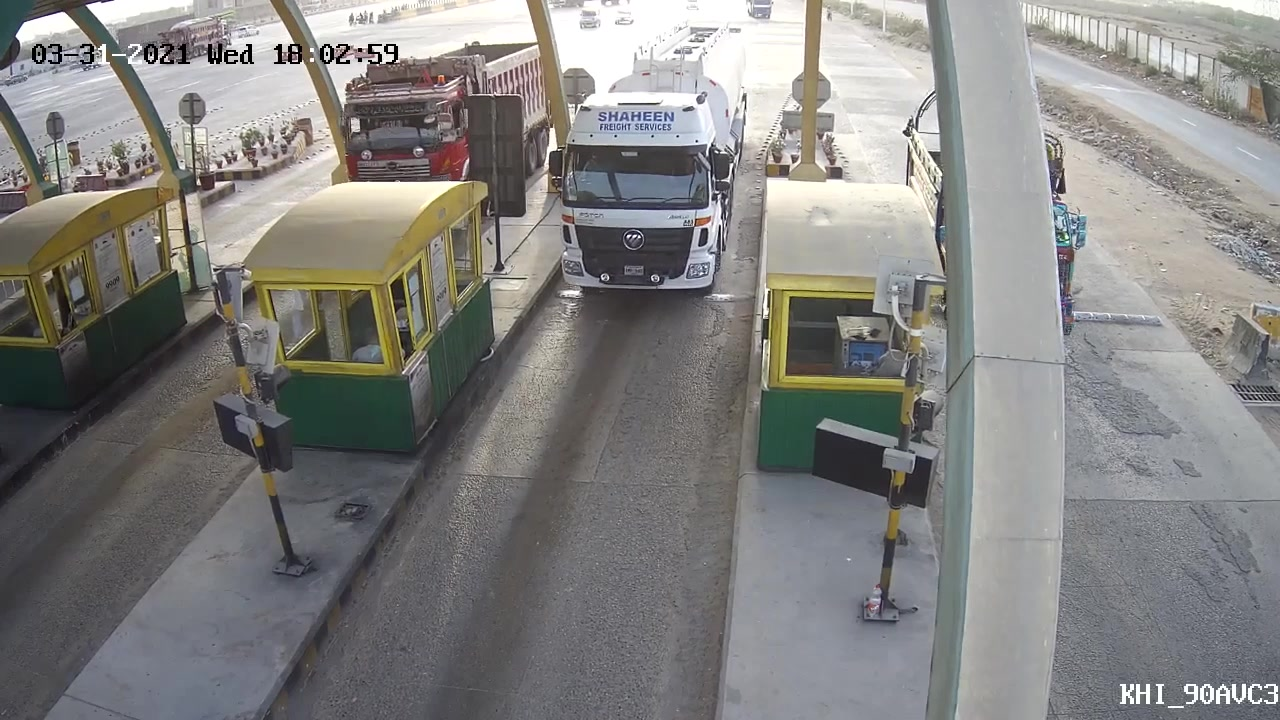F6: (539, 33, 757, 302)
